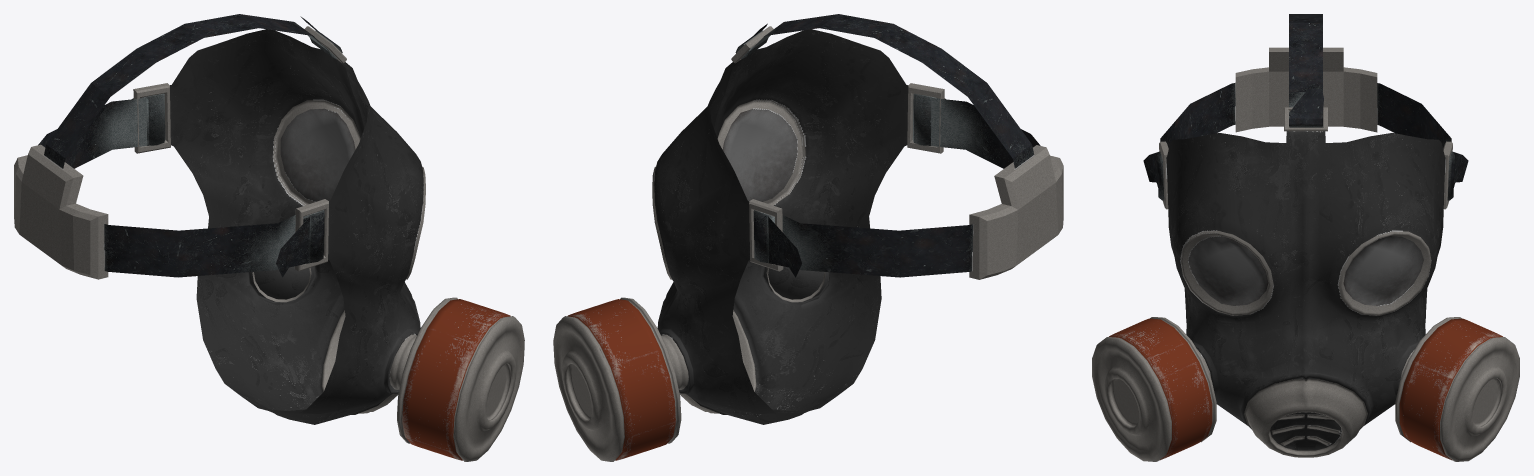
3 renders of one model, left to right at view 1: azimuth 30°, elevation 25°; view 2: azimuth 150°, elevation 25°; view 3: azimuth 270°, elevation 25°, orthographic. The views are drawn at different scales.
Visible parts, largest first — view 1: Circle.001; view 2: Circle.001; view 3: Circle.001.
Part boxes in pixels (<box>): Circle.001: <box>14,14,524,461</box>; Circle.001: <box>553,14,1063,461</box>; Circle.001: <box>1092,14,1519,461</box>.
Size of the model in its own units: 27.85 by 27.4 by 29.08.
Materials: 1 (1 with a texture image).
